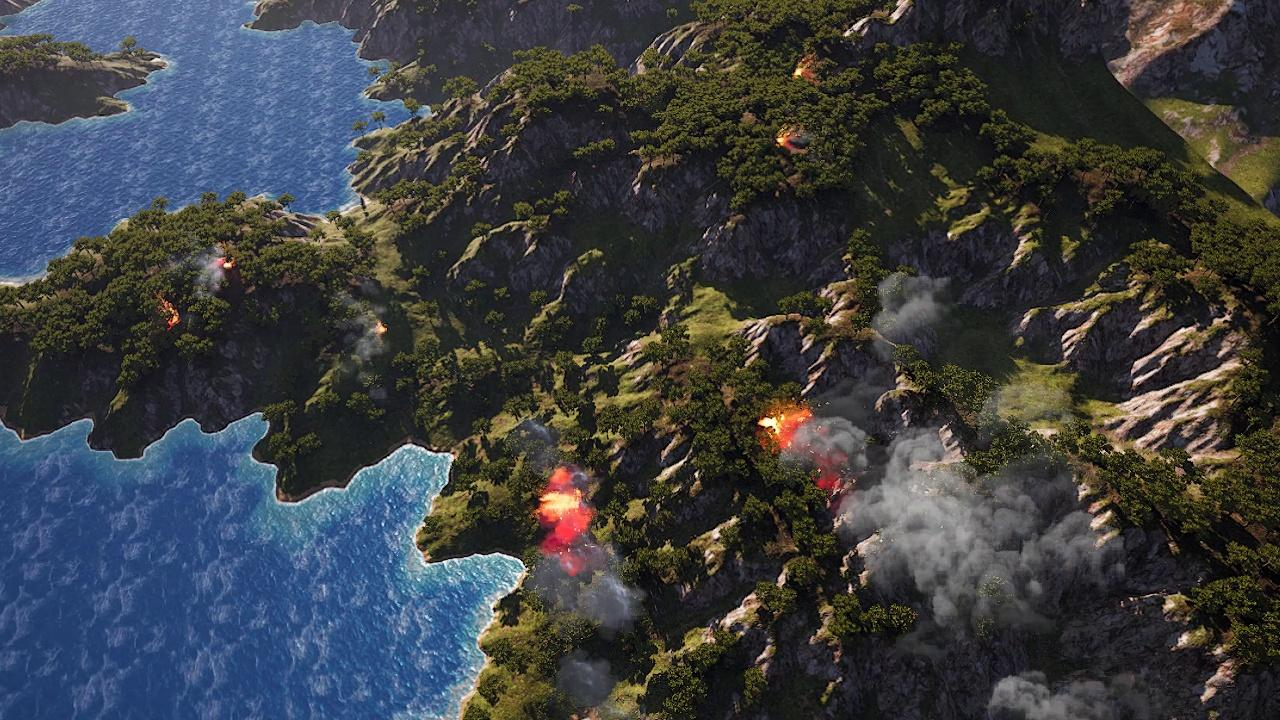fire: (537, 471, 593, 542), (752, 408, 814, 440), (158, 295, 182, 332), (793, 63, 816, 85), (213, 254, 234, 273), (779, 141, 806, 153), (377, 324, 390, 336)
smoke: (789, 377, 1159, 720), (513, 418, 644, 720), (338, 280, 403, 407), (873, 267, 952, 349), (186, 244, 235, 292)
